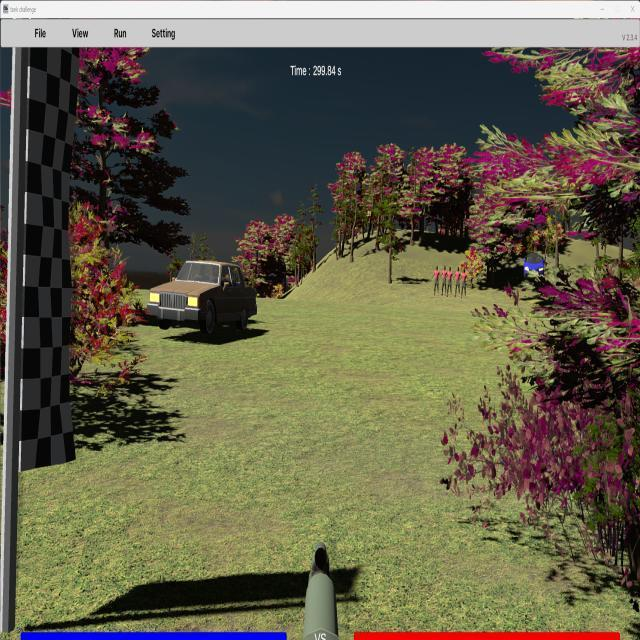Human: (446, 266, 457, 297), (431, 265, 441, 297), (446, 266, 456, 298), (460, 267, 470, 298), (455, 267, 465, 298), (442, 265, 451, 295)
car: (147, 260, 257, 336)
